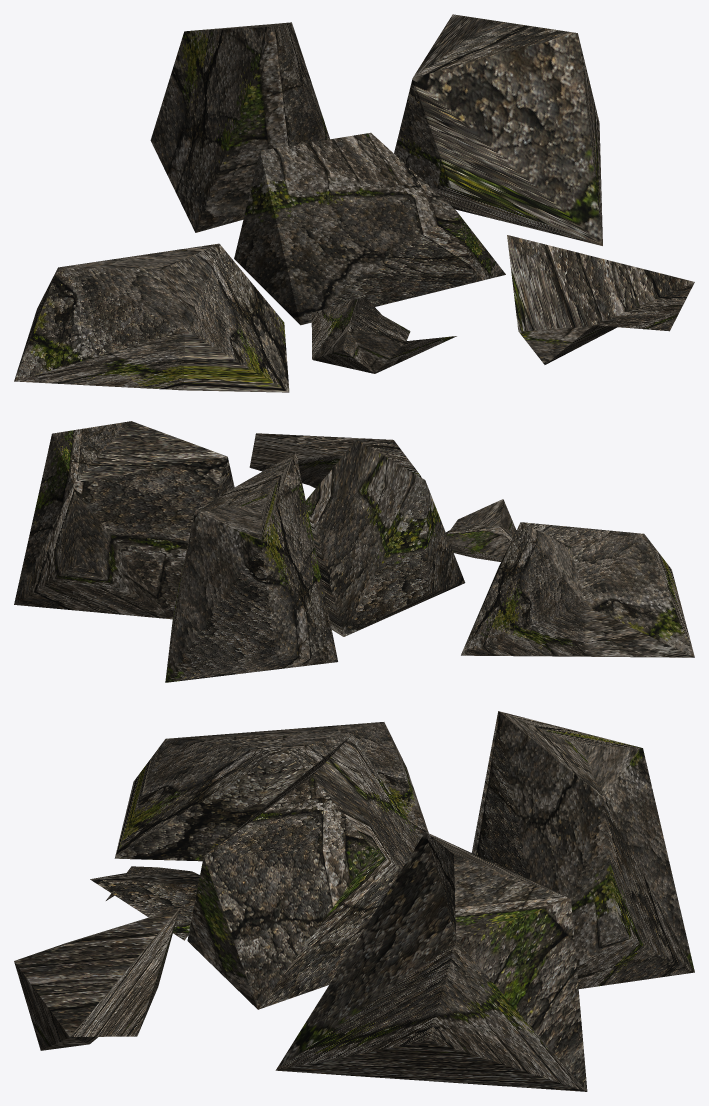
The model's file is mm9_deco_stonedebris05.glb.
3 renders of one model, top to bottom at view 1: azimuth 30°, elevation 25°; view 2: azimuth 150°, elevation 25°; view 3: azimuth 270°, elevation 25°, orthographic. The views are drawn at different scales.
Parts seen in each view (by area): view 1: Stonedebris05; view 2: Stonedebris05; view 3: Stonedebris05.
Boxes of the visible parts, x1,y1,x2,y2 form: Stonedebris05: (14,14,694,392); Stonedebris05: (14,421,694,682); Stonedebris05: (14,711,694,1091).
Size of the model in its own units: 2.38 by 0.7236 by 1.92.
1 material, 1 textured.
